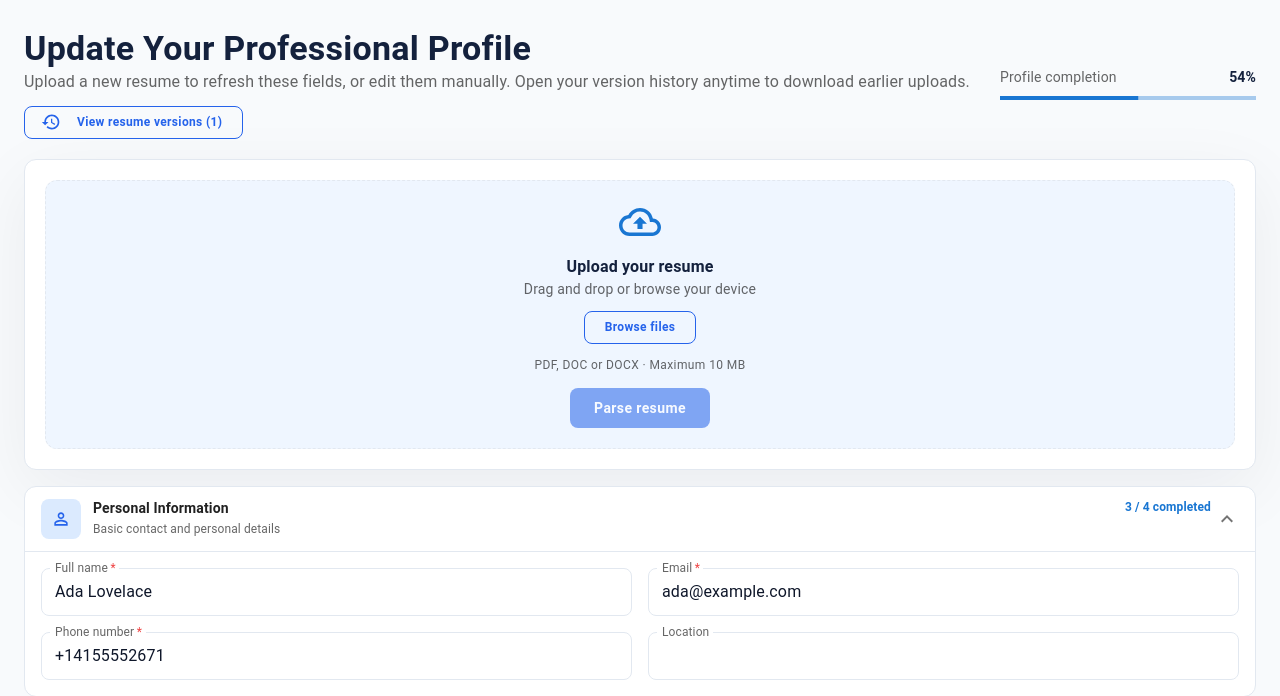
Test: EditProfilePage › cancels the confirmation dialog without saving
Expected: the field labelled "Full name *" is shown, x1=41 y1=580 x2=632 y2=603
In the field labelled "Location": (944, 656) x1=648 y1=644 x2=1239 y2=667, type "London"
(page scrolled)
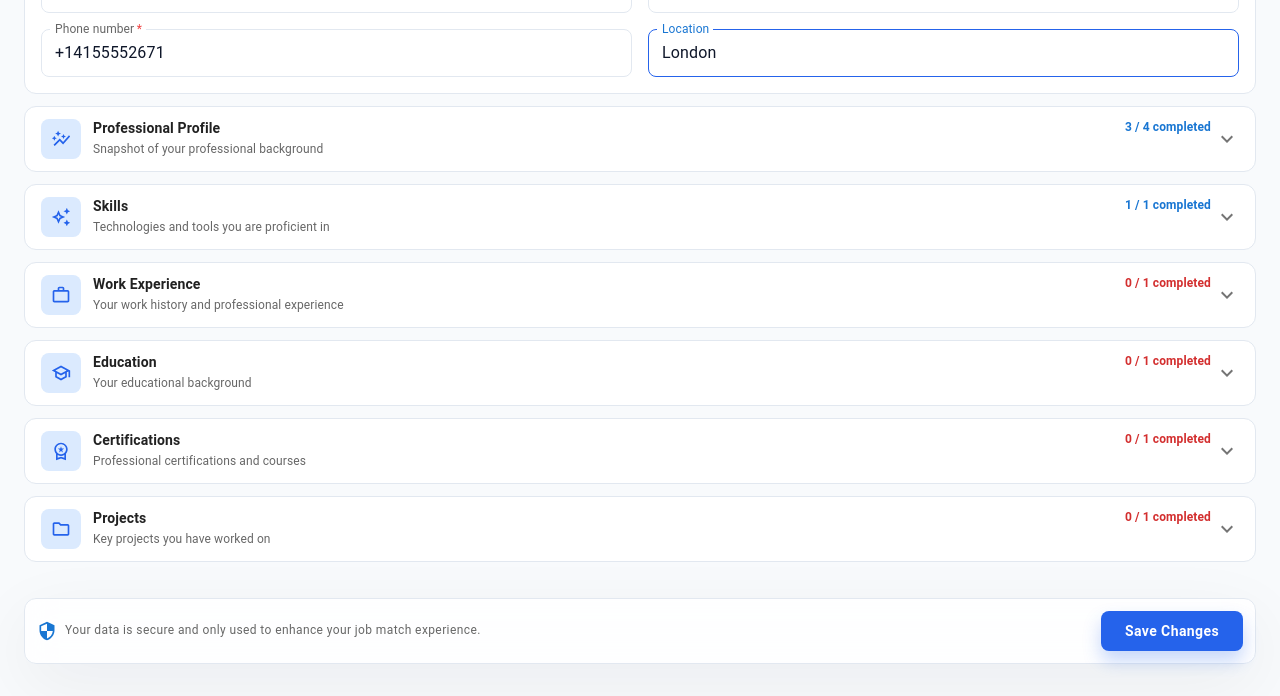
Click the button "Save Changes": (1172, 631) x1=1101 y1=611 x2=1243 y2=651
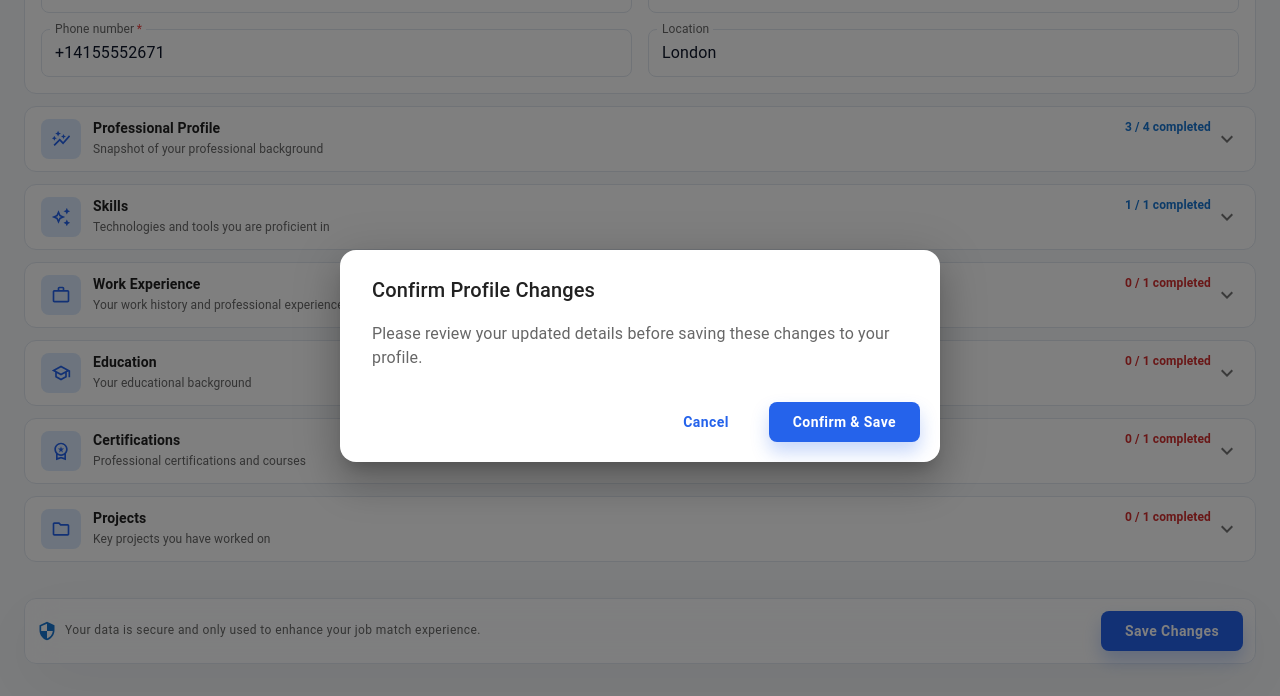
Click the button "Cancel": (706, 422) x1=659 y1=402 x2=753 y2=442
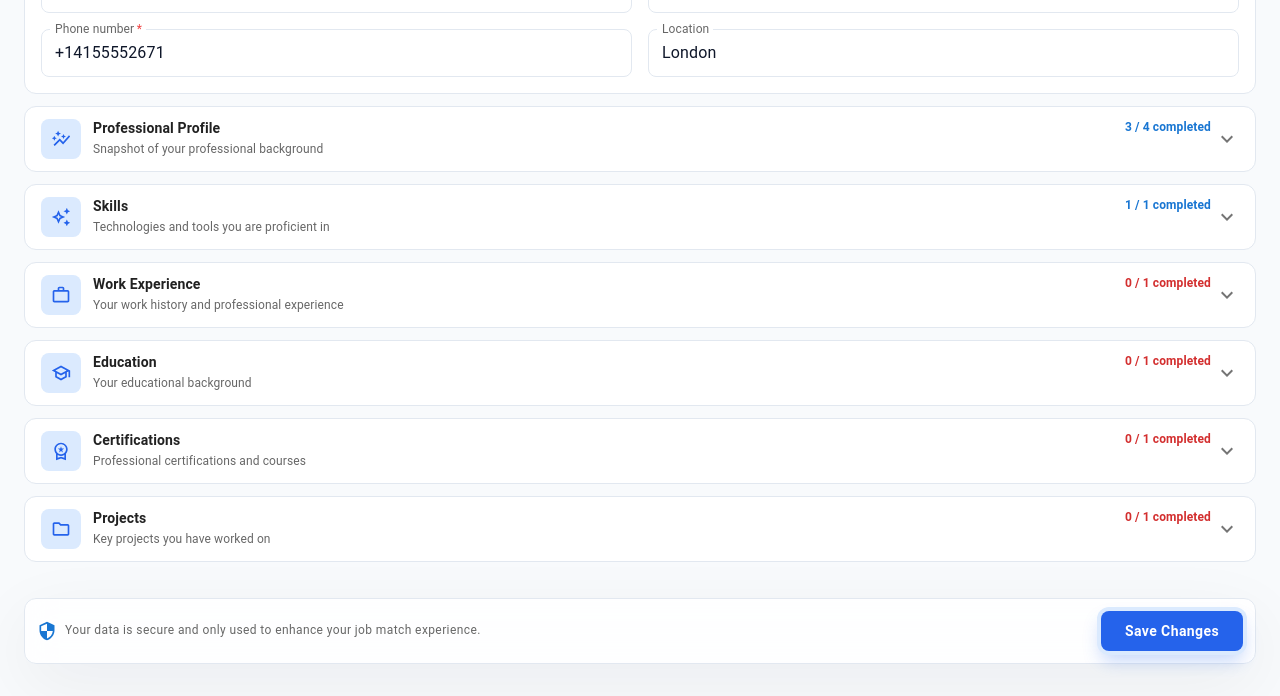
Expected: the dialog is gone
